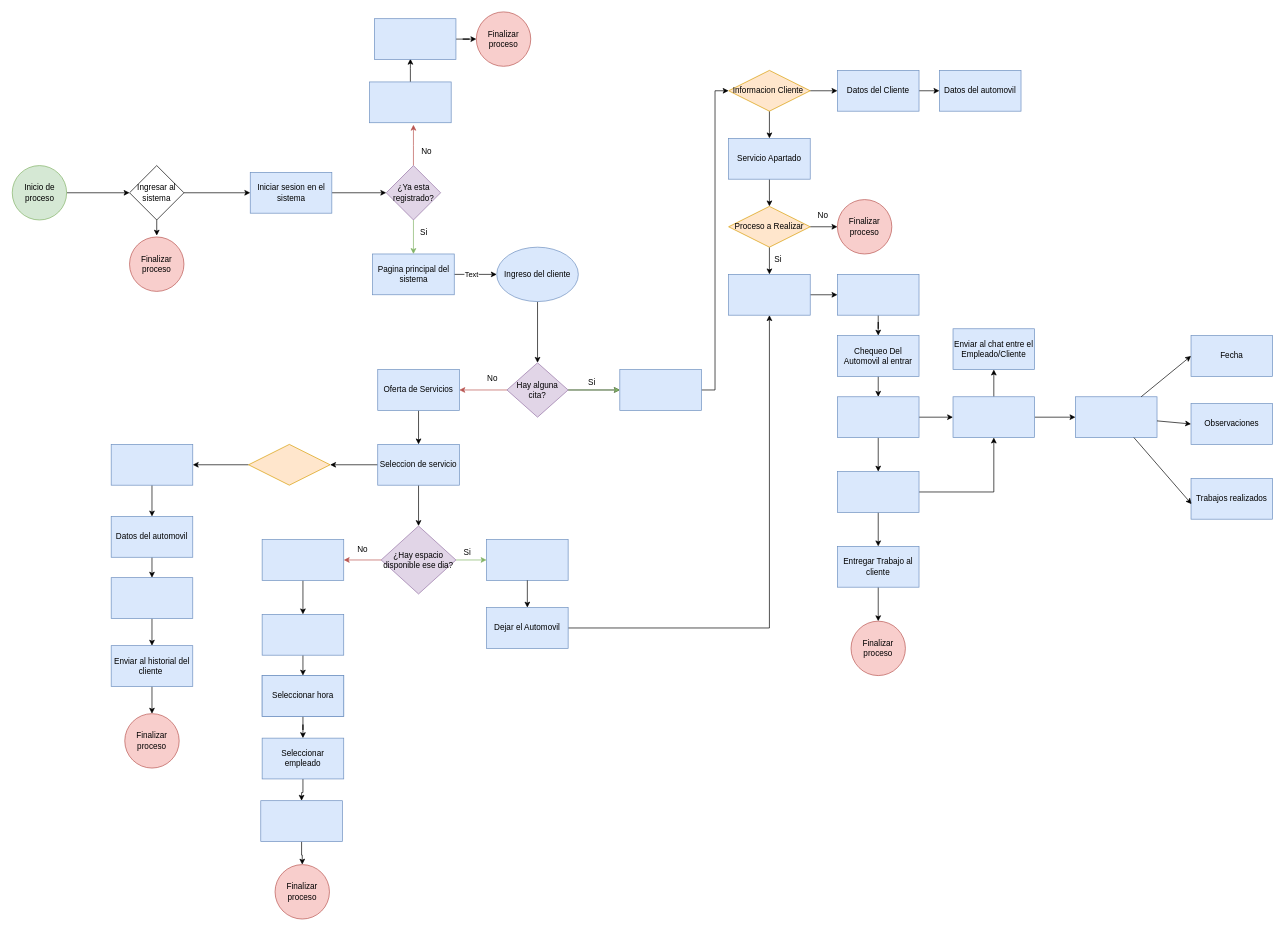
The diagram is 1285 pixels wide and 931 high, and some of its shapes have lost their labels. The centre of each missing label's shape, as x and y in pixels:
Agendar cita: the point at 302,559
Agendar para ese dia: the point at 527,559
Chequeo general Automovil: the point at 152,597
Consultar Agenda: the point at 660,389
Crear cuenta: the point at 410,102
Cuenta Registrada: the point at 415,39
Datos personales Del cliente: the point at 152,464
Entrada del automovil: the point at 769,294
Finalizar trabajo: the point at 878,491
Historial del Cliente: the point at 1116,417
Imágenes e información del automóvil: the point at 993,417
Proceso de Automovil: the point at 878,294
Proceso Del servicio al Automovil: the point at 878,417
Registrar Cliente en el Sistema: the point at 289,464
Seleccionar dia: the point at 302,634
Subir al sistema: the point at 301,821
